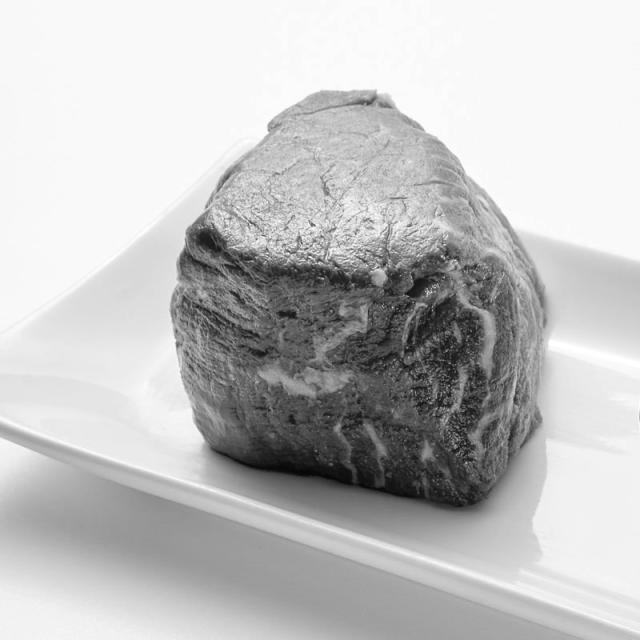beef tenderloin steak: (173, 93, 563, 504)
